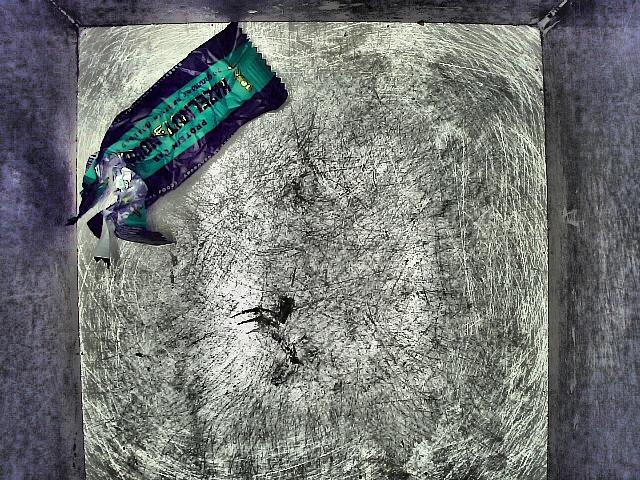Plastic: (81, 29, 300, 285)
